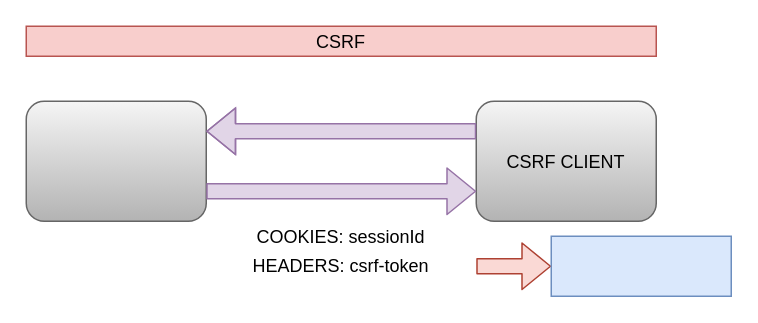
This 758x323 diagram has some shape labels left out. The shapes that lost their labels are listed below. From the top down, each one's box as (x1, y1, x2, y2) in pixels, then its label:
(25, 100, 206, 221): SERVER
(550, 235, 731, 296): Session storage
